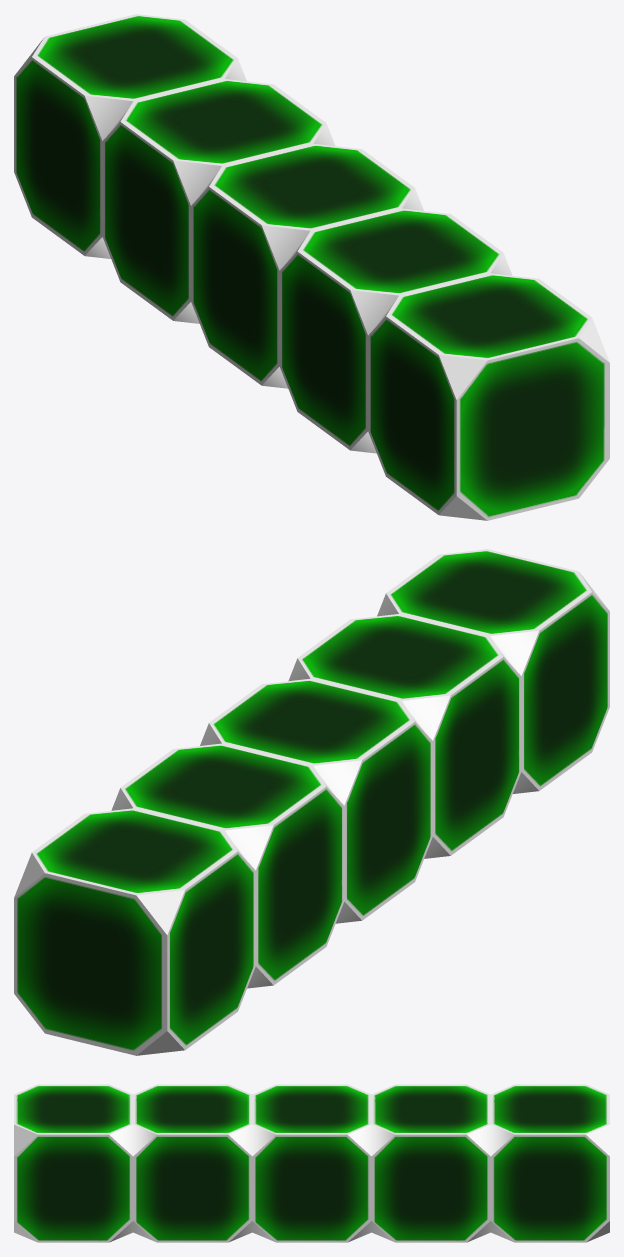
Rendered from MG-ChJ-CS-01FangKuai-5.FBX.
The picture shows the model from 3 angles, top to bottom: view 1: azimuth 30°, elevation 25°; view 2: azimuth 150°, elevation 25°; view 3: azimuth 270°, elevation 25°; orthographic projection. The views are drawn at different scales.
Parts seen in each view (by area): view 1: MG-ChJ-CS-01FangKuai-5; view 2: MG-ChJ-CS-01FangKuai-5; view 3: MG-ChJ-CS-01FangKuai-5.
Boxes of the visible parts, x1=… form: MG-ChJ-CS-01FangKuai-5: x1=14, y1=14, x2=609, y2=520; MG-ChJ-CS-01FangKuai-5: x1=14, y1=549, x2=609, y2=1055; MG-ChJ-CS-01FangKuai-5: x1=14, y1=1084, x2=609, y2=1242.
Size of the model in its own units: 39.37 by 39.37 by 197.
